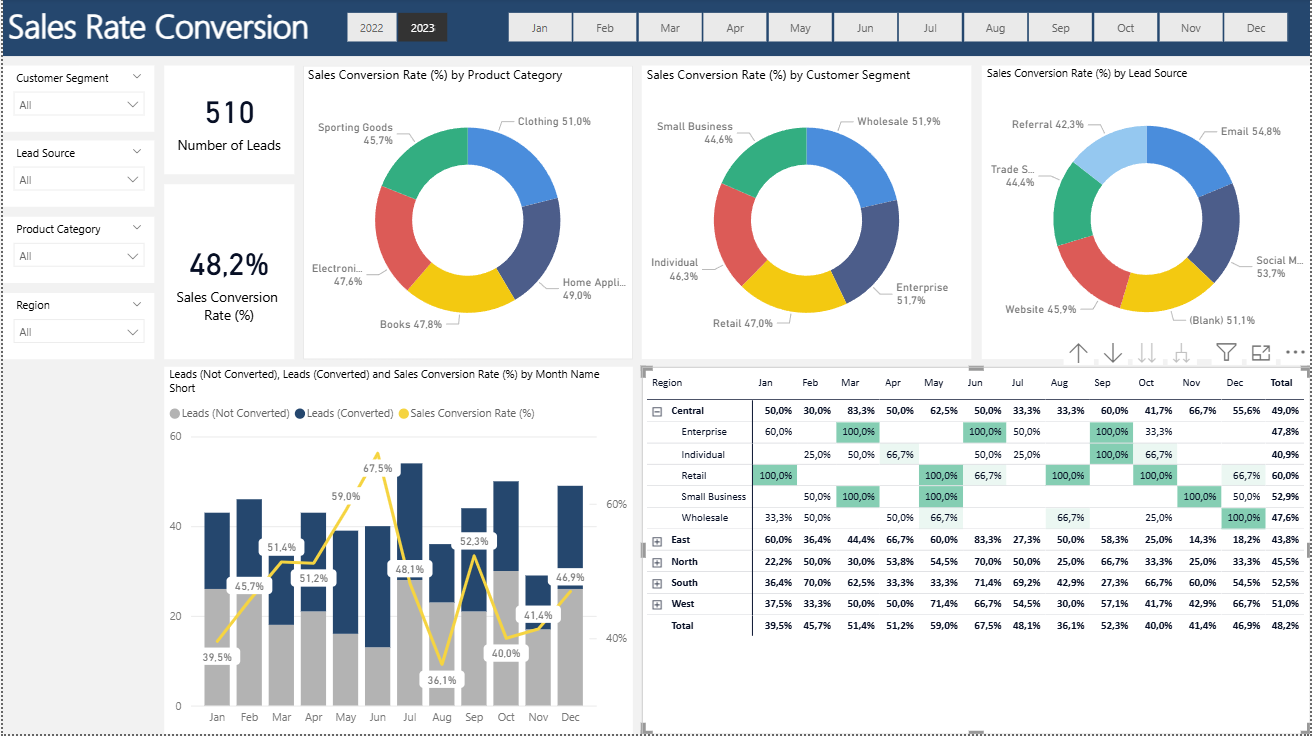

This screenshot's page, from the dashboard's own definition file:
{"tool":"powerbi","page":{"name":"Dashboard","canvas":[1280,720],"ordinal":0},"visuals":[{"type":"textbox","box":[0,0,1280,56.6],"z":0},{"type":"slicer","fields":{"Values":["Date.Year"]},"box":[310.9,7.3,148.1,42.1],"z":1000},{"type":"slicer","fields":{"Values":["Date.Month Name Short"]},"box":[468.2,7.1,812.2,42.6],"z":2000},{"type":"slicer","fields":{"Values":["Data.Customer Segment"]},"box":[0,65.8,148.1,64.9],"z":3000},{"type":"slicer","fields":{"Values":["Data.Lead Source"]},"box":[0,139.9,148.1,64.9],"z":4000},{"type":"slicer","fields":{"Values":["Data.Product Category"]},"box":[0,213.9,148.1,64.9],"z":5000},{"type":"slicer","fields":{"Values":["Data.Region"]},"box":[0,288,148.1,64.9],"z":6000},{"type":"card","fields":{"Values":["Data.Number of Leads"]},"box":[157.3,65.8,127.1,106.1],"z":7000},{"type":"card","fields":{"Values":["Data.Sales Conversion Rate (%)"]},"box":[157.3,181.9,127.1,171],"z":8000},{"type":"donutChart","fields":{"Y":["Data.Sales Conversion Rate (%)"],"Category":["Data.Customer Segment"]},"box":[625.4,65.8,322.7,287.1],"z":9000},{"type":"donutChart","fields":{"Y":["Data.Sales Conversion Rate (%)"],"Category":["Data.Product Category"]},"box":[293.5,65.8,322.7,287.1],"z":10000},{"type":"donutChart","fields":{"Y":["Data.Sales Conversion Rate (%)"],"Category":["Data.Lead Source"]},"box":[957.3,65.8,322.7,287.1],"z":11000},{"type":"lineStackedColumnComboChart","fields":{"Category":["Date.Month Name Short"],"Y":["Data.Number of Leads (Not Converted)","Data.Number of Leads (Converted)"],"Y2":["Data.Sales Conversion Rate (%)"]},"box":[157.3,360.9,458.7,359.1],"z":12000},{"type":"pivotTable","fields":{"Rows":["Data.Region","Data.Customer Segment"],"Values":["Data.Sales Conversion Rate (%)"],"Columns":["Date.Month Name Short"]},"box":[625,360.8,655,358.9],"z":13000}]}

Visuals, with their boxes in screenshot pixels (x1, y1, x2, y2), scaled from the page's 1280x720 canvas onto the 1312x736 screenshot:
textbox: <bbox>0, 0, 1311, 58</bbox>
slicer - Date.Year: <bbox>319, 7, 470, 50</bbox>
slicer - Date.Month Name Short: <bbox>480, 7, 1311, 51</bbox>
slicer - Data.Customer Segment: <bbox>0, 67, 152, 134</bbox>
slicer - Data.Lead Source: <bbox>0, 143, 152, 209</bbox>
slicer - Data.Product Category: <bbox>0, 219, 152, 285</bbox>
slicer - Data.Region: <bbox>0, 294, 152, 361</bbox>
card - Data.Number of Leads: <bbox>161, 67, 292, 176</bbox>
card - Data.Sales Conversion Rate (%): <bbox>161, 186, 292, 361</bbox>
donutChart - Data.Sales Conversion Rate (%) x Data.Customer Segment: <bbox>641, 67, 972, 361</bbox>
donutChart - Data.Sales Conversion Rate (%) x Data.Product Category: <bbox>301, 67, 632, 361</bbox>
donutChart - Data.Sales Conversion Rate (%) x Data.Lead Source: <bbox>981, 67, 1311, 361</bbox>
lineStackedColumnComboChart - Date.Month Name Short x Data.Number of Leads (Not Converted): <bbox>161, 369, 631, 735</bbox>
pivotTable - Data.Region x Data.Customer Segment: <bbox>641, 369, 1311, 735</bbox>
